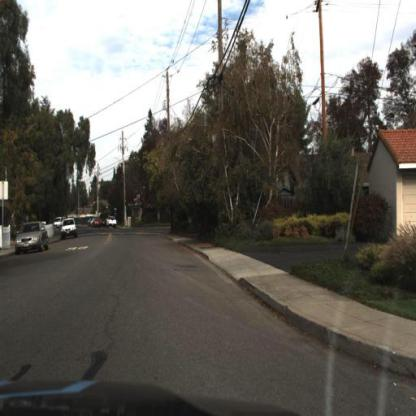car: (14, 219, 50, 255), (61, 218, 77, 241)
